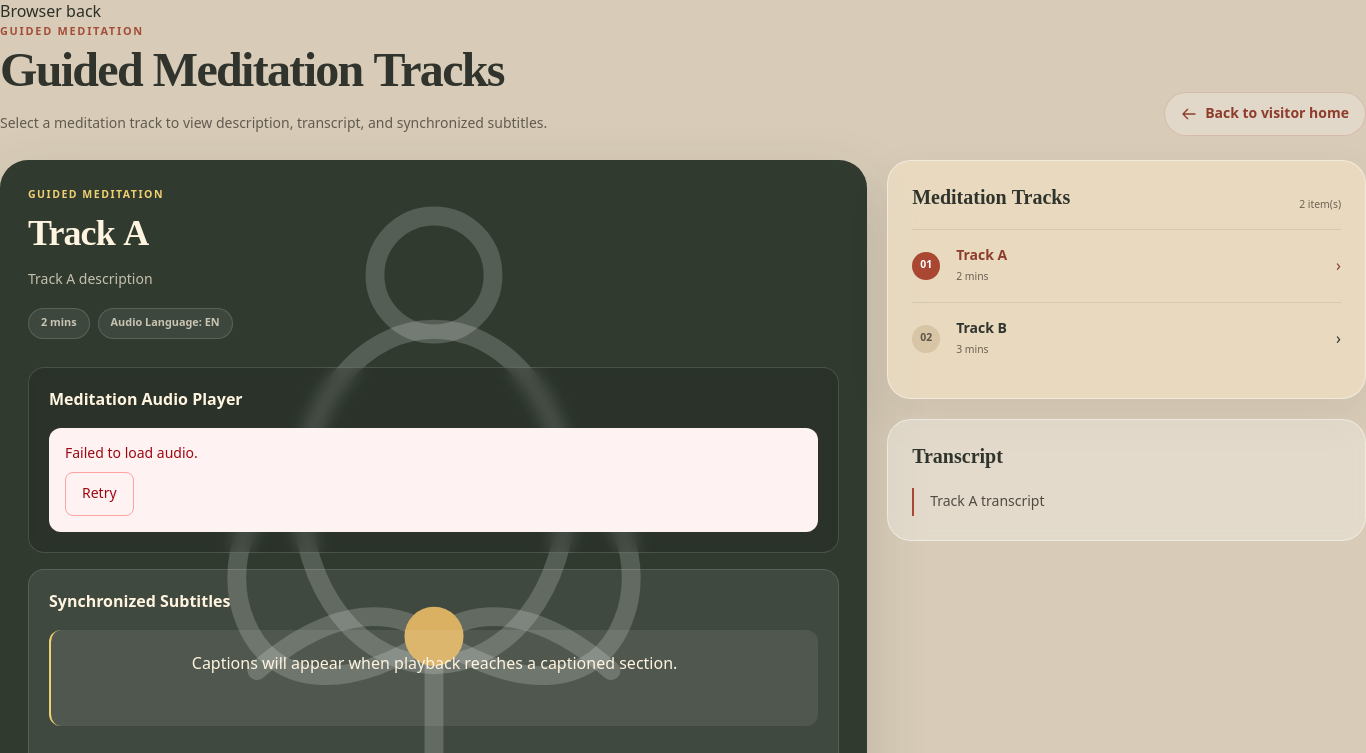
Test: Meditation flow › reports playback errors and retries the signed audio URL without losing transcript
This screenshot has width=1366, height=753.
Expected: the message shows "Failed to load audio", left=65, top=443, right=198, bottom=464
Expected: the text "Track A transcript" is shown, left=912, top=488, right=1341, bottom=516
Step 1. Click the button "Retry" → click(99, 494), box left=65, top=472, right=134, bottom=516
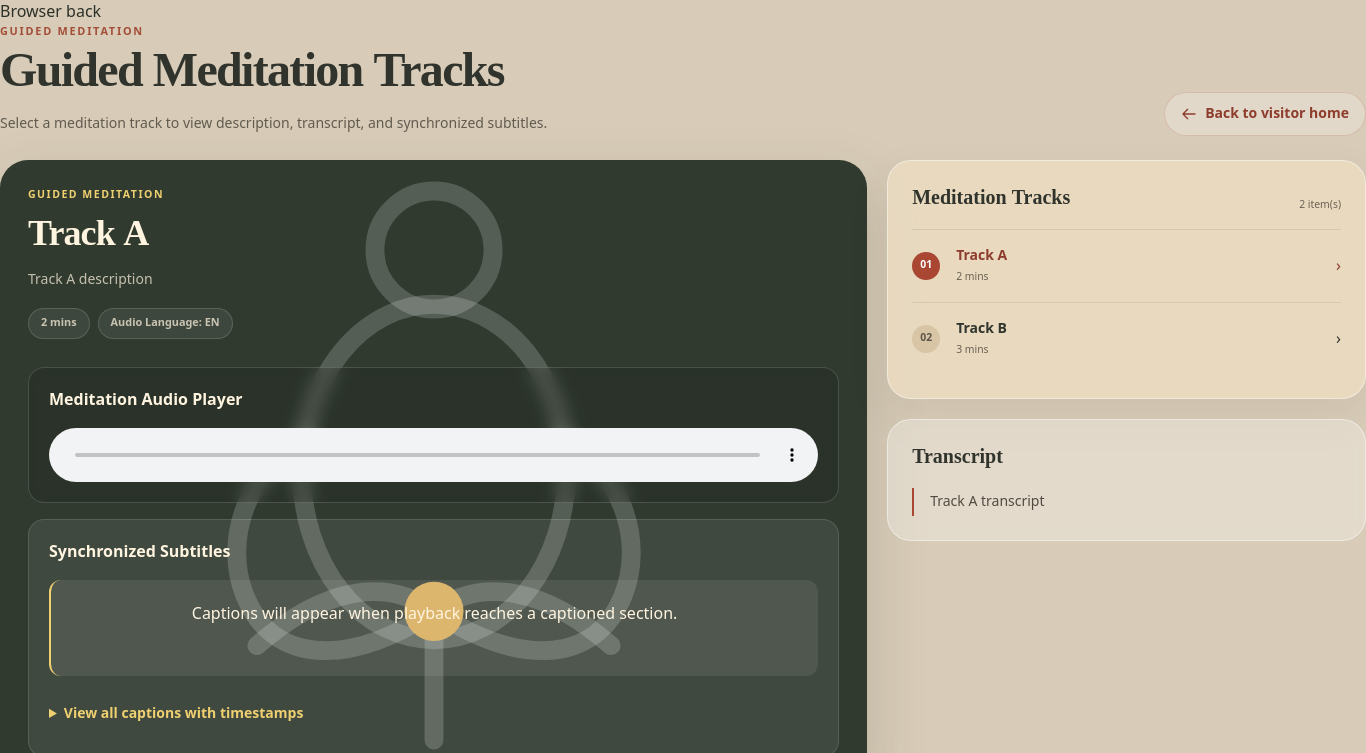
Now the element named "Meditation Audio Player: Track A" is shown, box left=49, top=428, right=818, bottom=482
